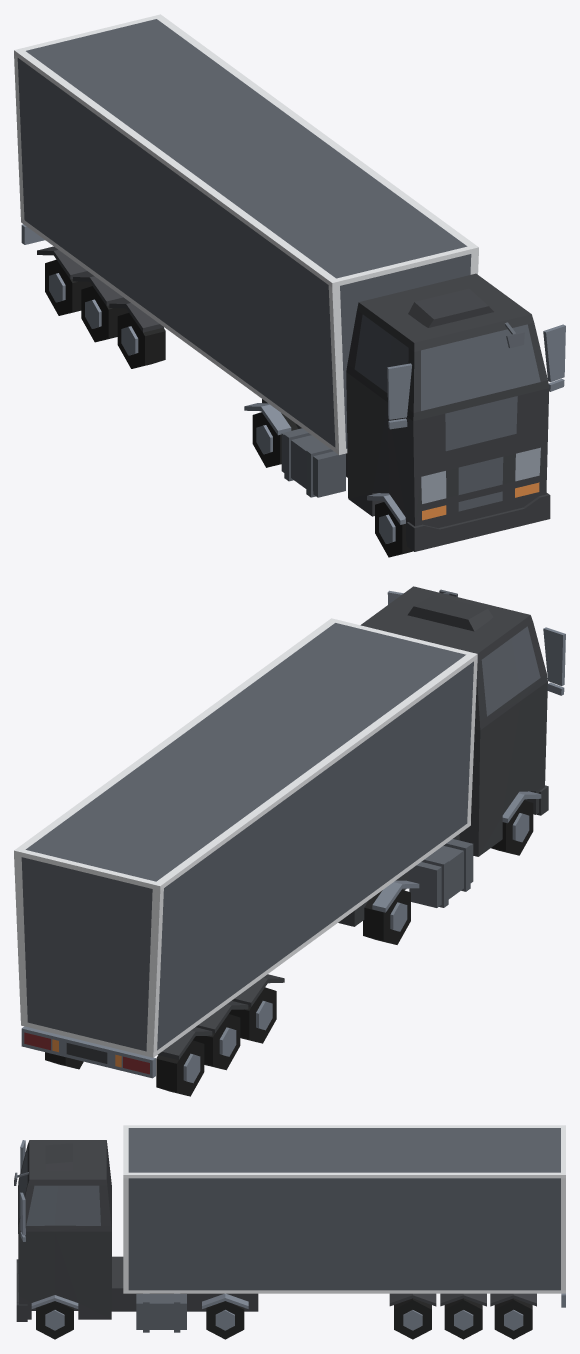
Rendered from Vehicles_Truck.fbx.
The picture shows the model from 3 angles, top to bottom: view 1: azimuth 30°, elevation 25°; view 2: azimuth 150°, elevation 25°; view 3: azimuth 270°, elevation 25°; orthographic projection. The views are drawn at different scales.
Parts seen in each view (by area): view 1: Vehicles_Truck; view 2: Vehicles_Truck; view 3: Vehicles_Truck.
Boxes of the visible parts, box(x1,y1,x2,y2) form: Vehicles_Truck: box(14, 14, 565, 557); Vehicles_Truck: box(14, 586, 565, 1096); Vehicles_Truck: box(14, 1125, 565, 1339).
Size of the model in its own units: 240 by 311 by 930.
